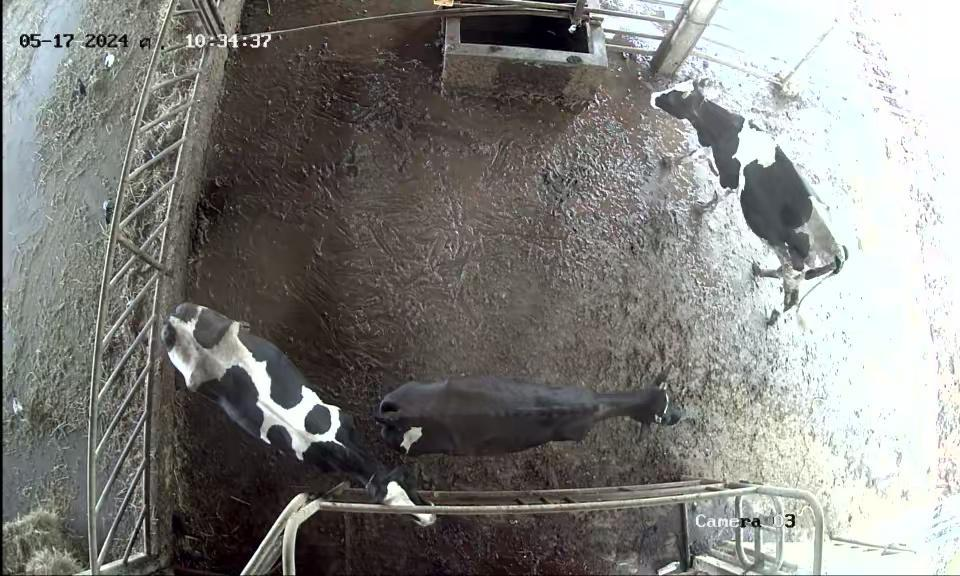stand: (163, 300, 443, 532), (648, 71, 853, 318), (373, 348, 701, 469)
